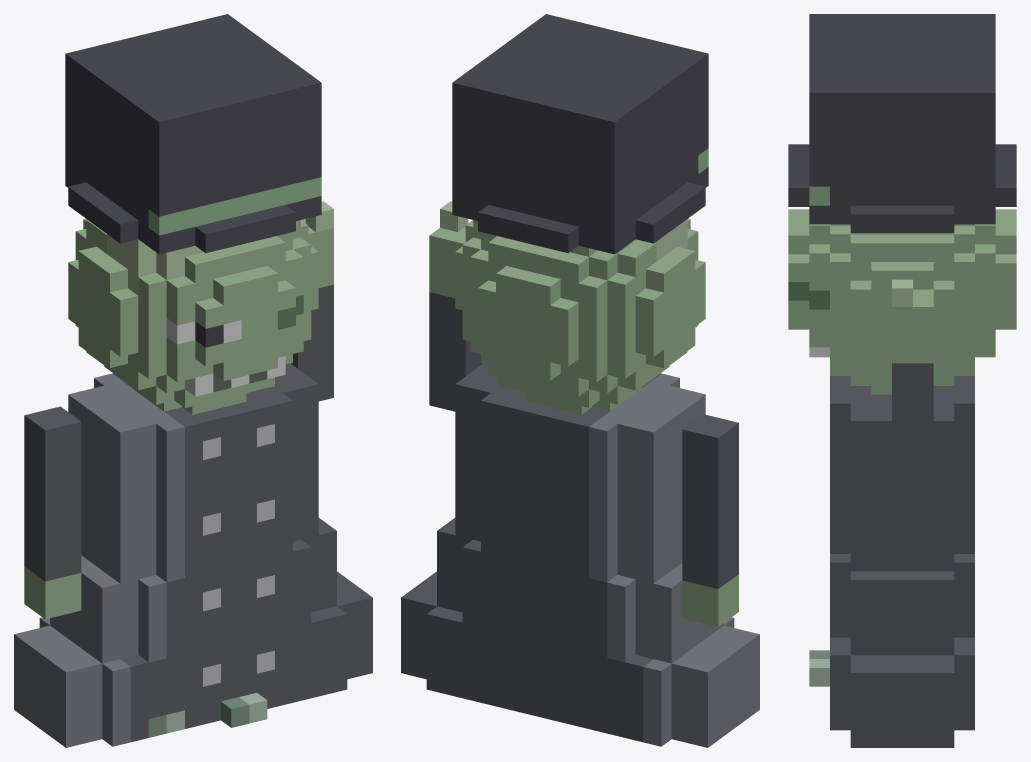
Rendered from boss_hitcher.glb.
3 renders of one model, left to right at view 1: azimuth 30°, elevation 25°; view 2: azimuth 150°, elevation 25°; view 3: azimuth 270°, elevation 25°, orthographic.
Parts seen in each view (by area): view 1: body, head, armL, armR; view 2: body, head, armL, armR; view 3: head, body, armR.
Part boxes in pixels (<box>): body: <box>14,363,372,747</box>; head: <box>65,14,321,414</box>; armL: <box>24,406,81,619</box>; armR: <box>291,201,333,401</box>; body: <box>401,363,759,747</box>; head: <box>452,14,708,414</box>; armL: <box>682,414,738,626</box>; armR: <box>429,201,482,411</box>; head: <box>788,14,1016,394</box>; body: <box>809,376,974,747</box>; armR: <box>892,279,933,476</box>.
Bounding box in the file's own units: 1.06 × 2.06 × 0.6875.
